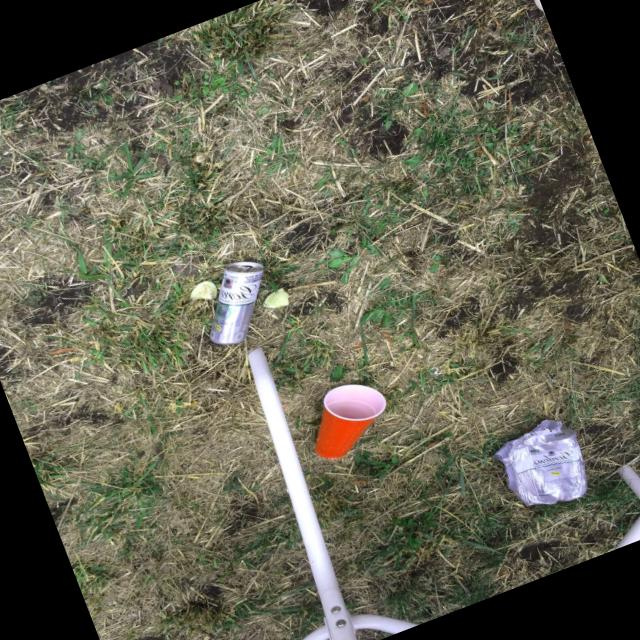less trash: (494, 420, 587, 505), (315, 384, 387, 459), (211, 261, 264, 344)
